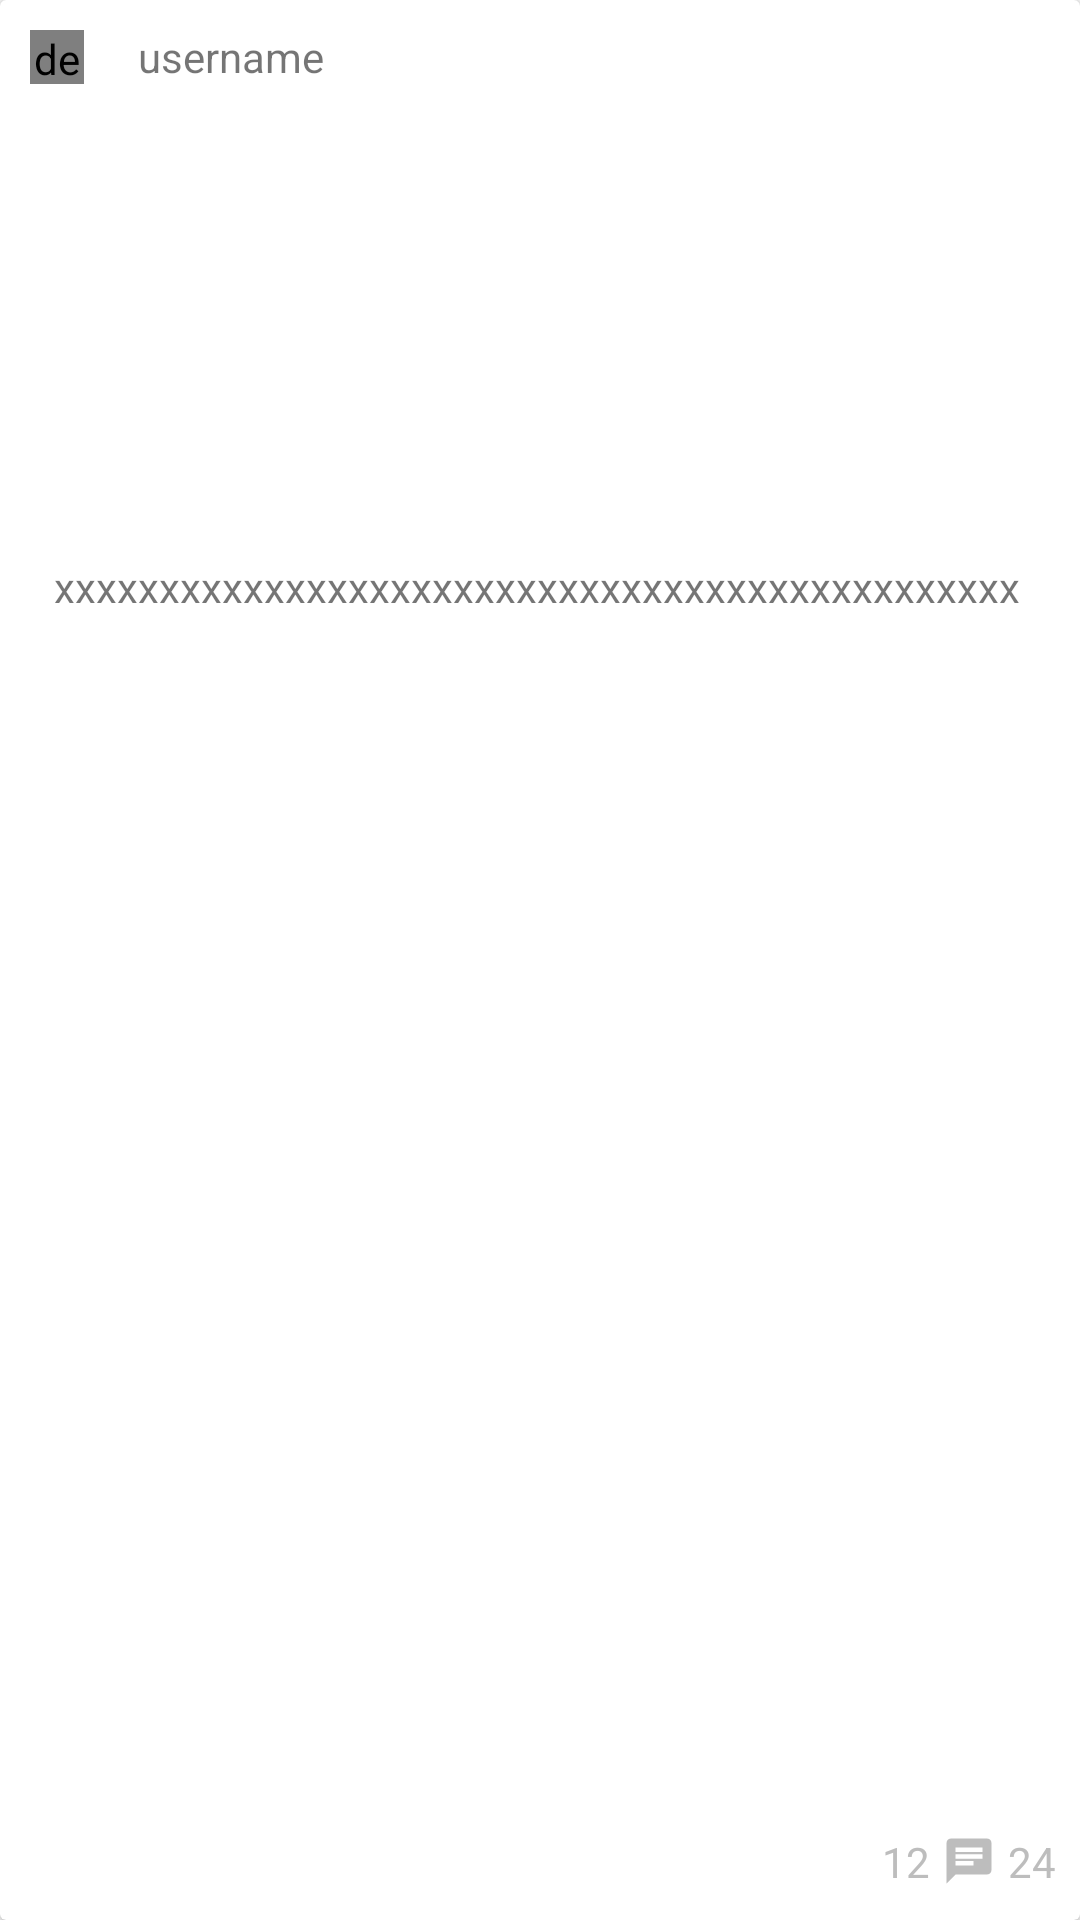

Where icons sit on this 1080px x 1920px app screen, as (x1=x1, y1=y1, x2=x2, y2=y2):
chat: (x1=946, y1=1838, x2=992, y2=1883)
